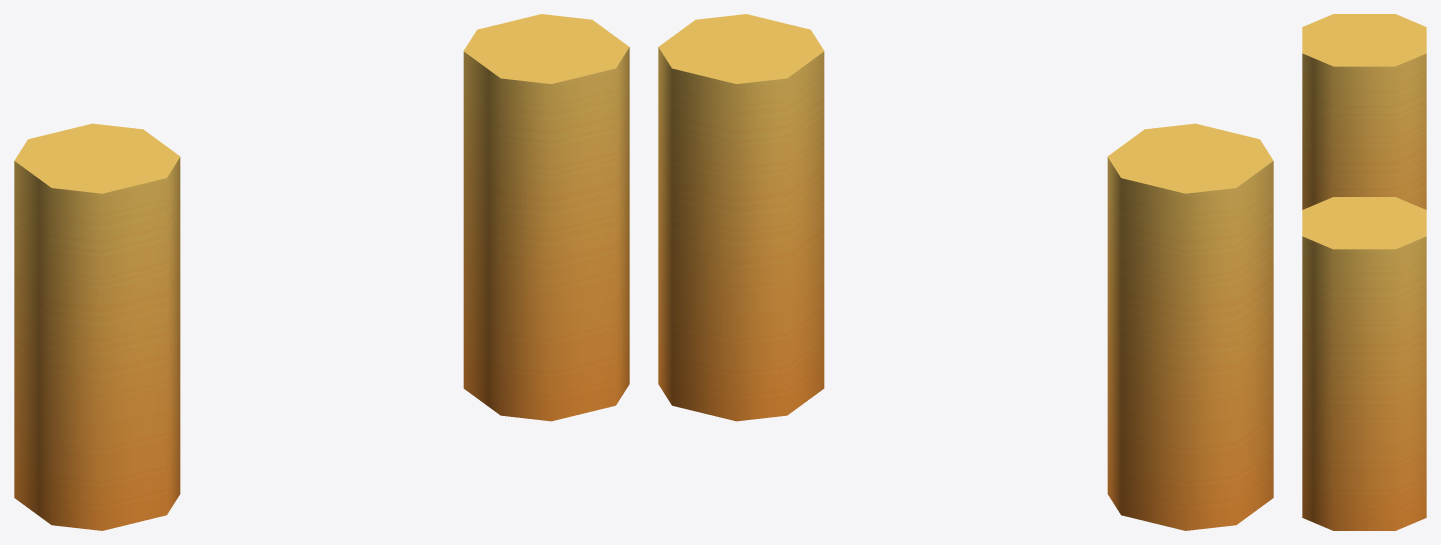
File: support_color_two_middle.glb
3 renders of one model, left to right at view 1: azimuth 30°, elevation 25°; view 2: azimuth 150°, elevation 25°; view 3: azimuth 270°, elevation 25°, orthographic. The views are drawn at different scales.
Visible parts, largest first — view 1: support-color-two-middle; view 2: support-color-two-middle; view 3: support-color-two-middle.
Part boxes in pixels (<box>): support-color-two-middle: <box>14,14,629,530</box>; support-color-two-middle: <box>658,14,1273,530</box>; support-color-two-middle: <box>1302,14,1426,530</box>.
Size of the model in its own units: 0.8969 by 0.5 by 0.2.
1 material, 1 textured.
